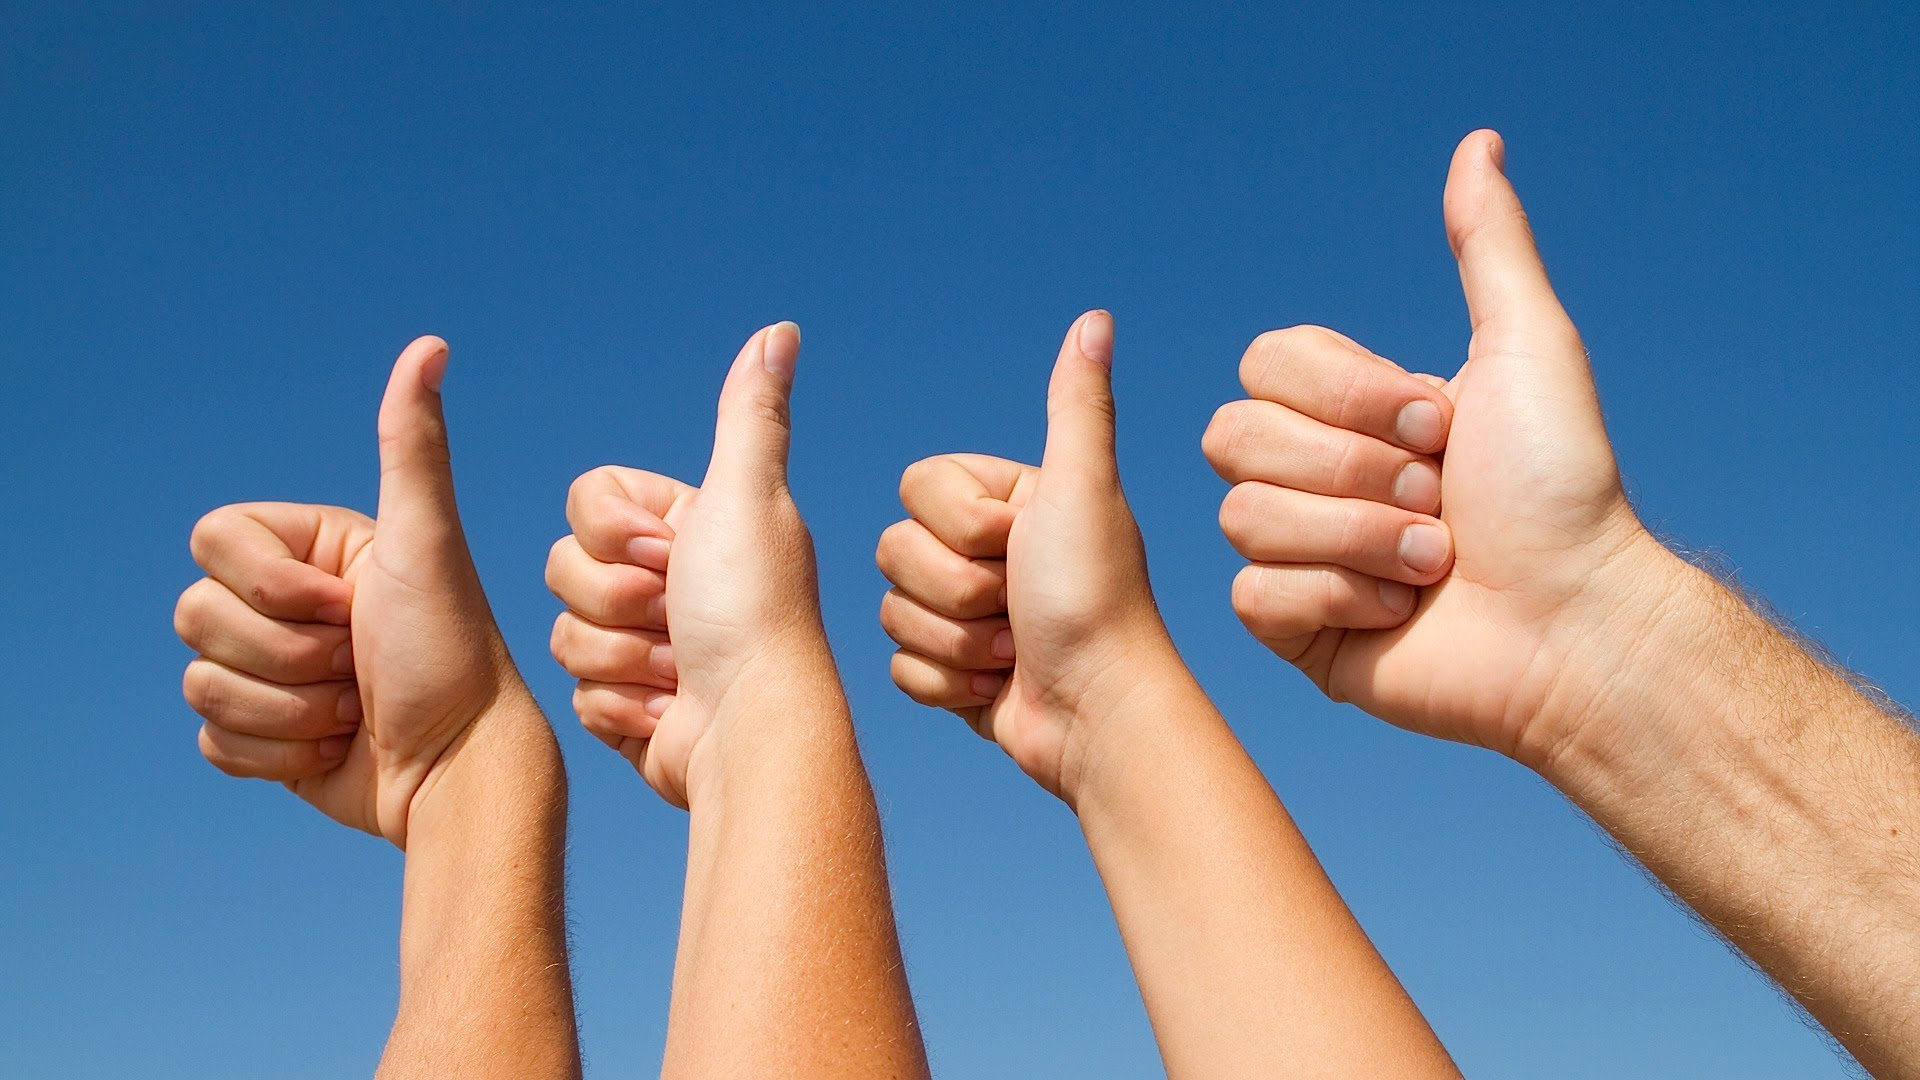thumbsup: (1189, 127, 1553, 737), (167, 332, 464, 840), (538, 319, 815, 793), (874, 303, 1124, 760)
